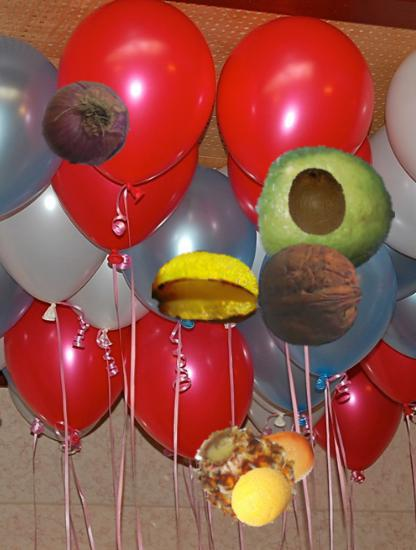Cantaloupe: (228, 464, 292, 528)
Carambula: (152, 234, 261, 343)
Kiwi: (281, 166, 353, 238)
Lemon: (249, 426, 315, 492)
Limes: (255, 141, 396, 282)
Onion: (41, 78, 131, 168)
Pineapple: (189, 421, 306, 538)
Walnut: (256, 241, 364, 349)
